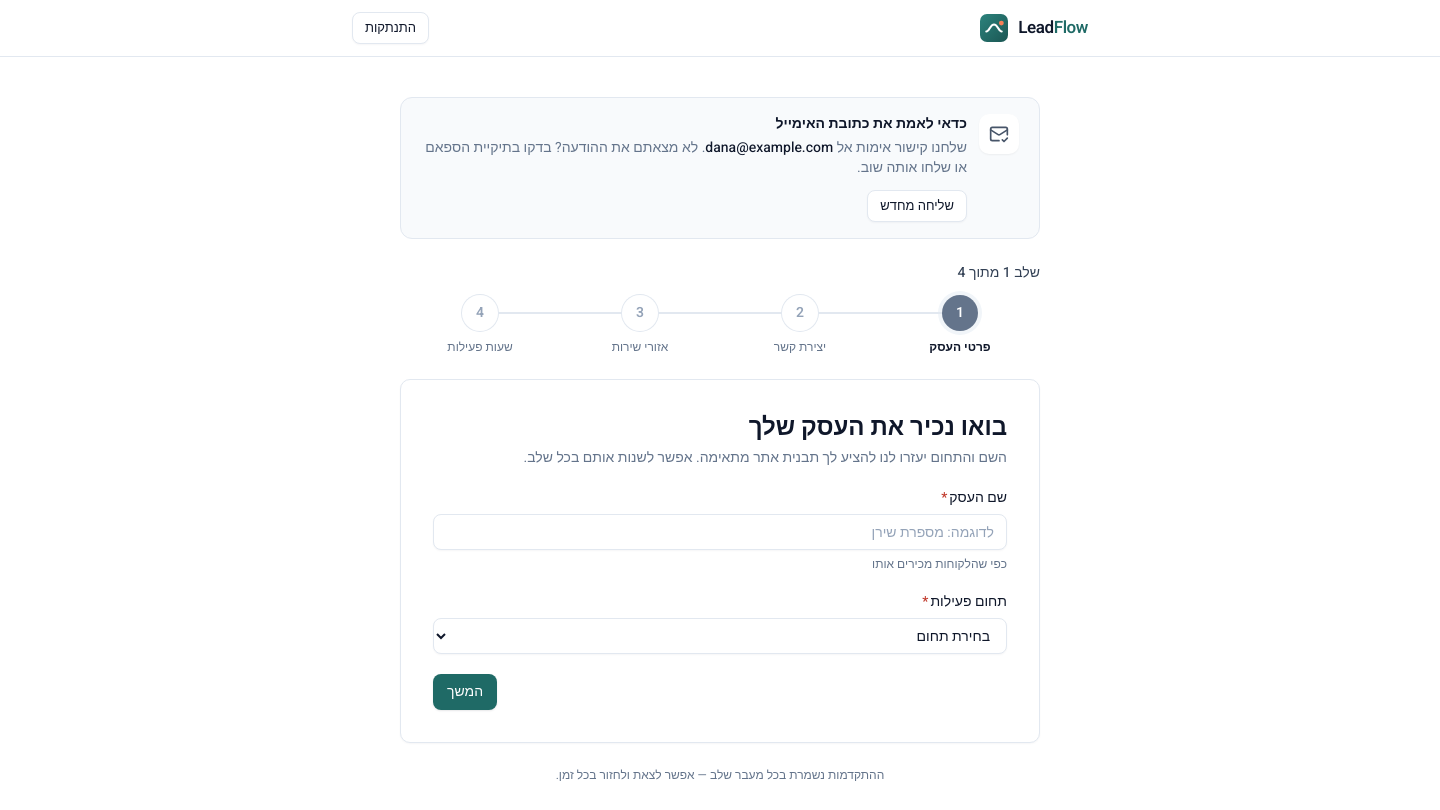
onboarding wizard › step 1 validates in Hebrew, then creates the business and moves to step 2
Check: the heading "בואו נכיר את העסק שלך" is shown, box x1=749 y1=410 x2=1007 y2=445
Click the button "המשך": (465, 692) x1=433 y1=674 x2=497 y2=710
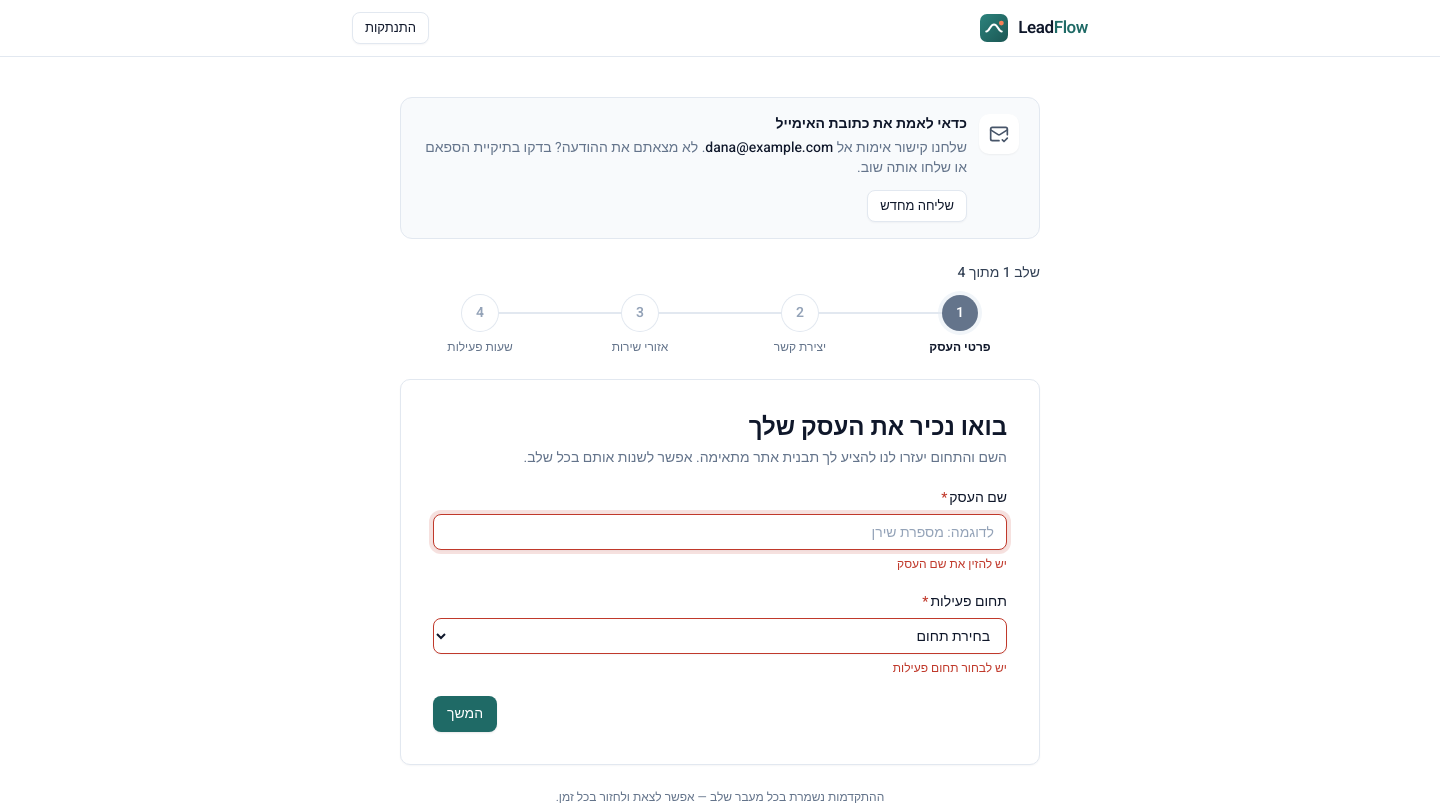
Check: the text "יש להזין את שם העסק" is shown, box x1=897 y1=555 x2=1007 y2=573
Check: the text "יש לבחור תחום פעילות" is shown, box x1=893 y1=659 x2=1007 y2=677
In the field labelled "שם העסק*": (720, 532) x1=433 y1=514 x2=1007 y2=550, type "מספרת שירן"
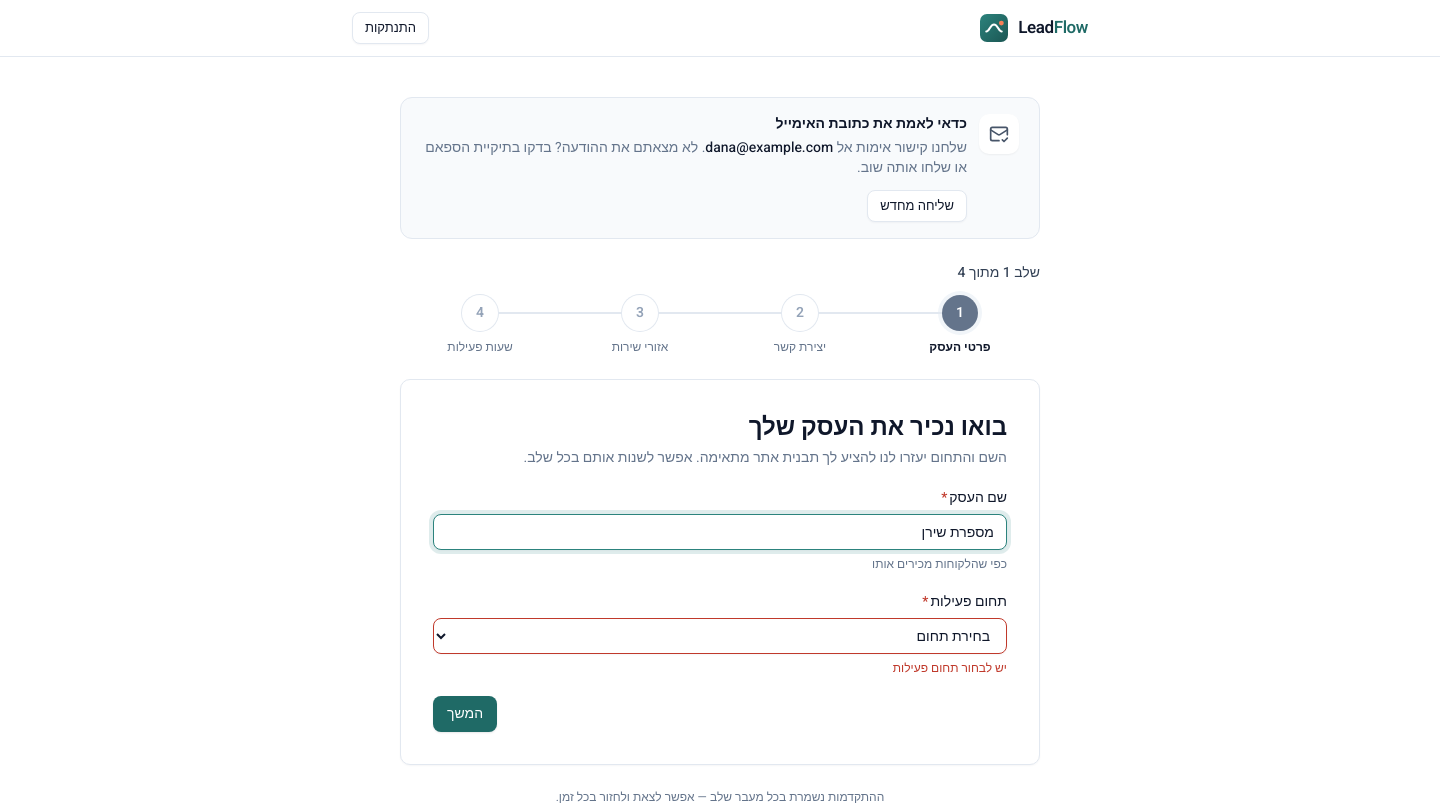
Select "מספרה וקוסמטיקה" in the dropdown labelled "תחום פעילות*": (720, 636) x1=433 y1=618 x2=1007 y2=654
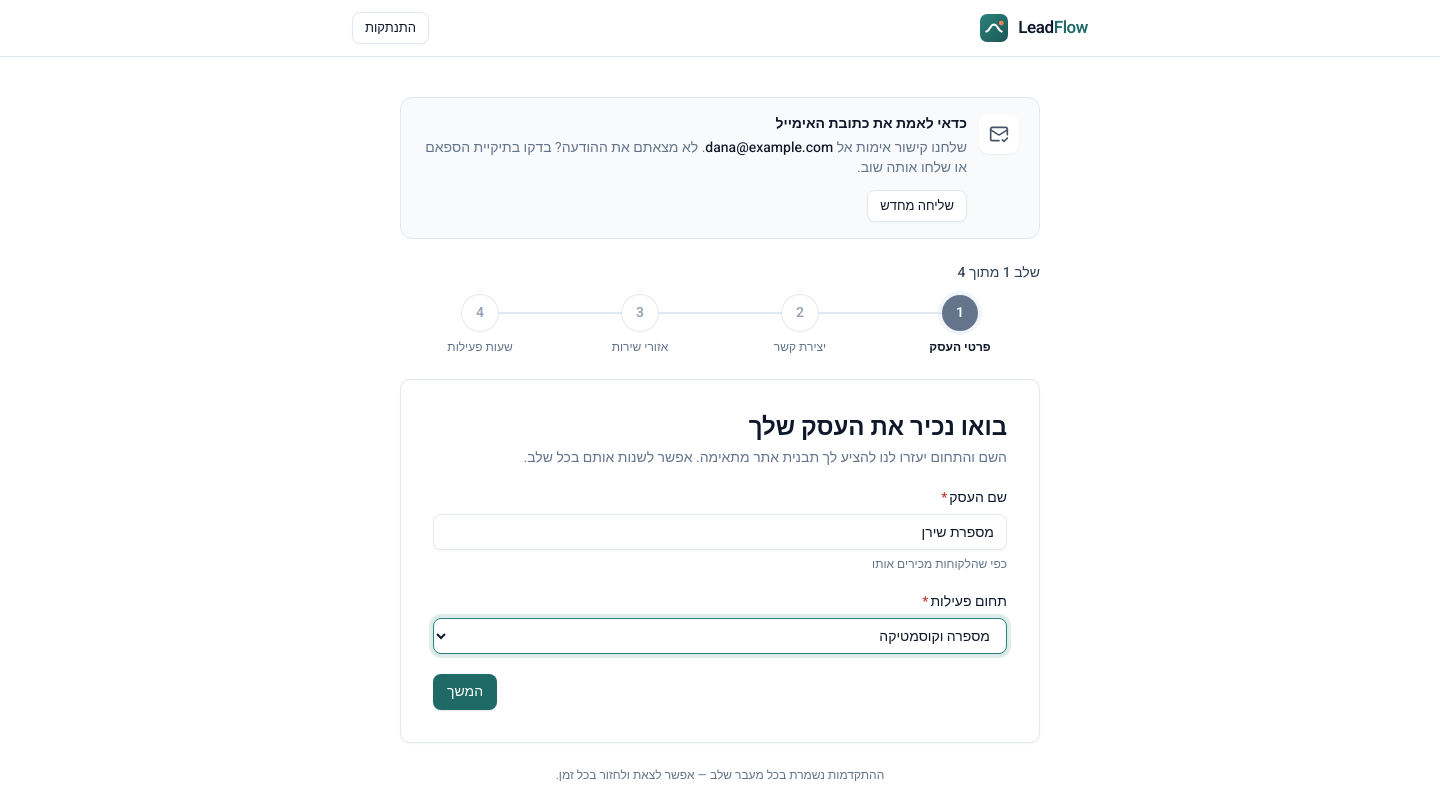
Click the button "המשך": (465, 692) x1=433 y1=674 x2=497 y2=710
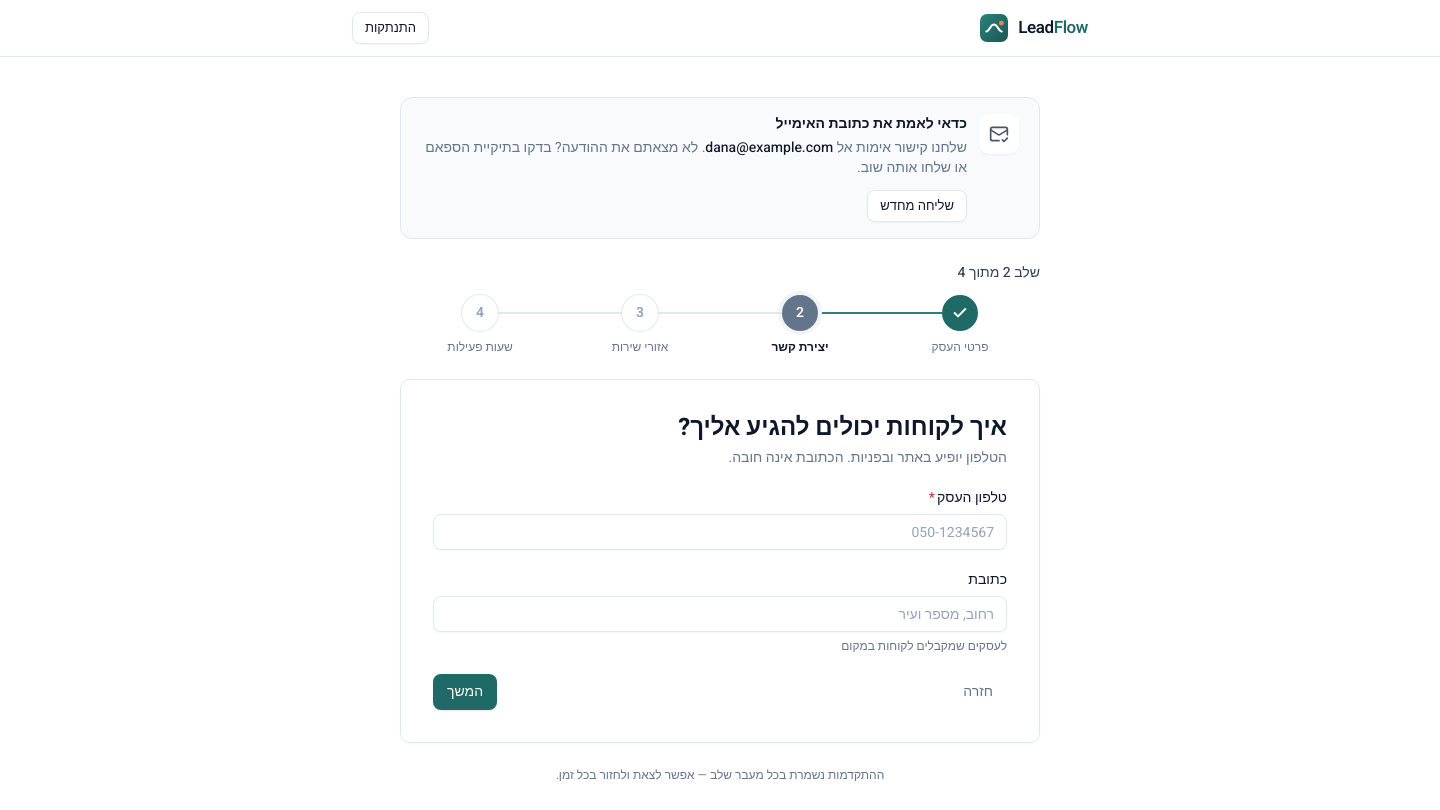
Check: the heading "איך לקוחות יכולים להגיע אליך?" is shown, box x1=678 y1=410 x2=1007 y2=445
